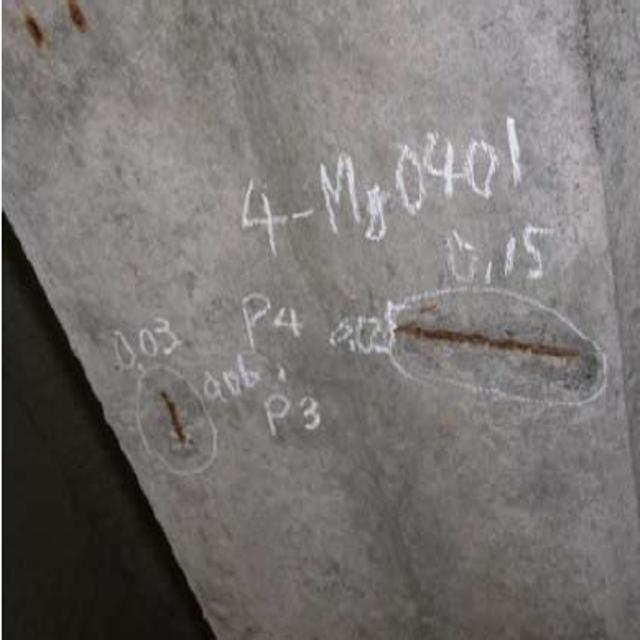spalling: (378, 284, 606, 416), (131, 368, 226, 482)
